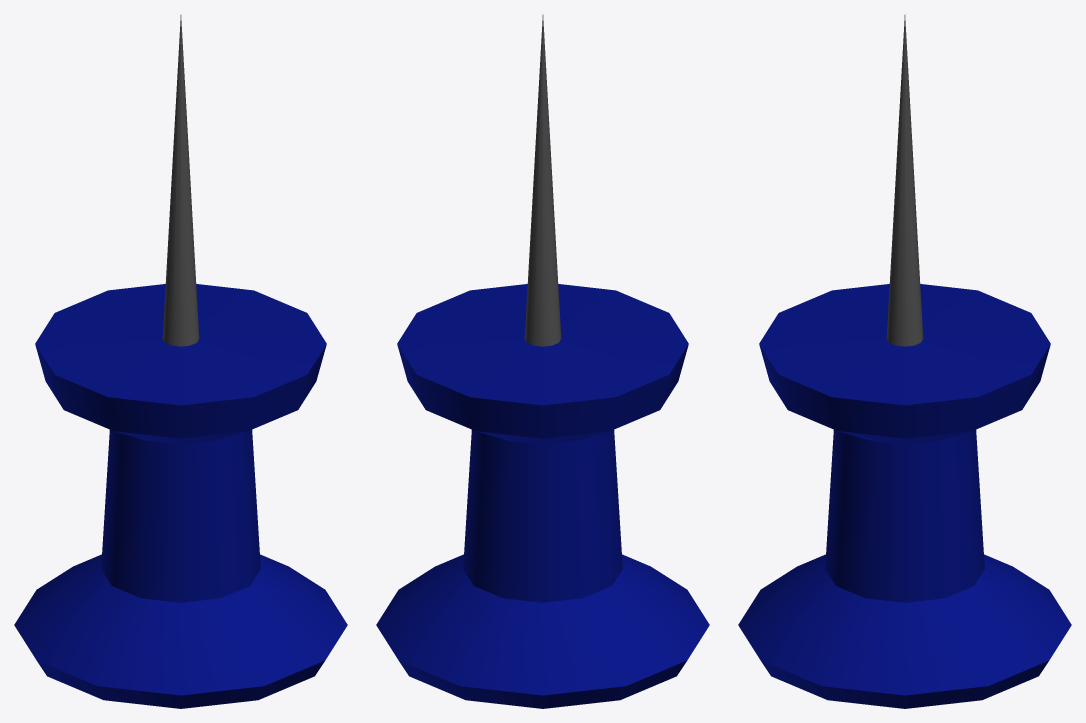
Rendered from Chinche Azul.fbx.
3 views of the same model, side by side, from view 1: azimuth 30°, elevation 25°; view 2: azimuth 150°, elevation 25°; view 3: azimuth 270°, elevation 25° (orthographic).
Parts seen in each view (by area): view 1: Chinche Azul; view 2: Chinche Azul; view 3: Chinche Azul.
Part boxes in pixels (x1,y1,x2,y2): Chinche Azul: (14, 15, 347, 708); Chinche Azul: (376, 15, 709, 708); Chinche Azul: (738, 15, 1071, 708).
Bounding box in the file's own units: 19.93 × 41.48 × 19.93.
